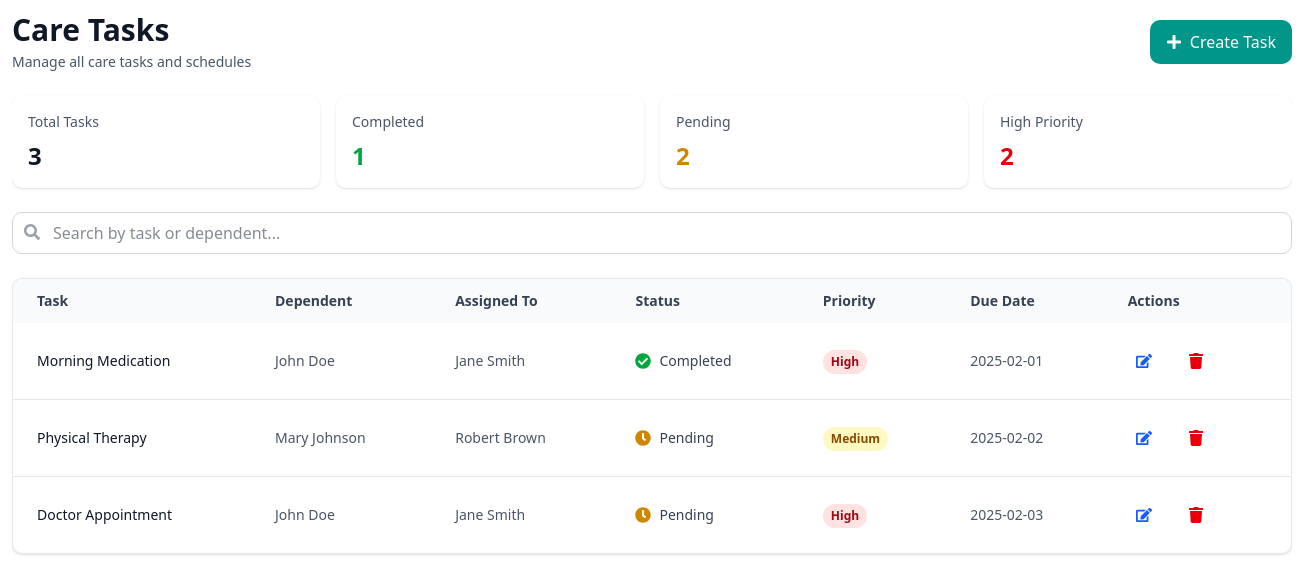
it: AdminTasks Component › Search Functionality › filters tasks by title
Type "Medication" into the field with placeholder "Search by task or dependent..." at (652, 233), box 12,212 -> 1292,254
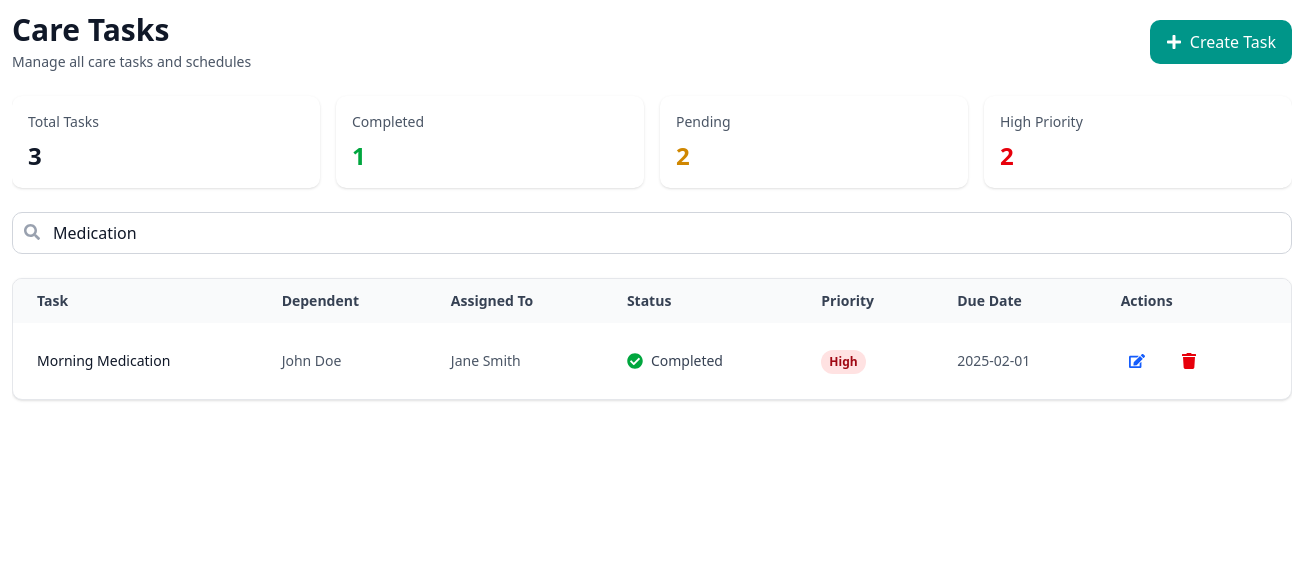
expect the text "Morning Medication" is shown: met, box 13,323 -> 258,399
expect the text "Physical Therapy" is gone: met
